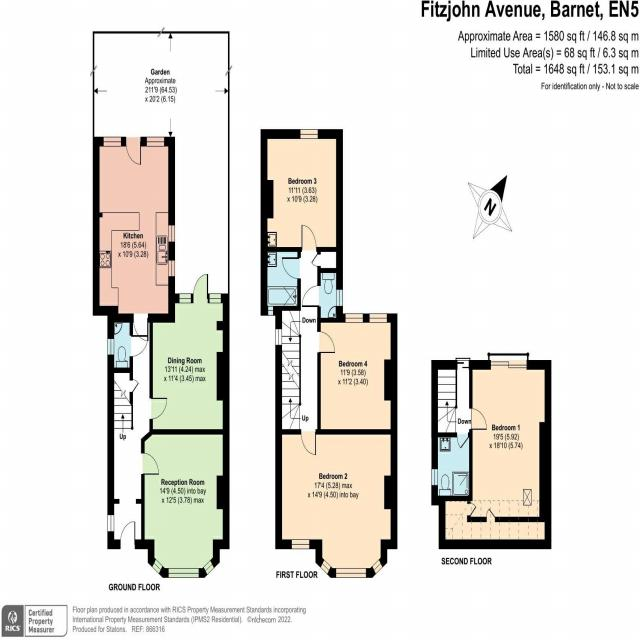DOOR: (193, 273, 209, 304), (281, 256, 301, 280), (133, 312, 149, 342), (125, 136, 141, 165), (316, 331, 336, 354), (469, 407, 488, 431), (300, 428, 316, 456), (301, 224, 317, 252), (120, 521, 136, 549), (302, 285, 321, 308), (149, 397, 168, 420), (141, 452, 159, 476), (456, 432, 469, 449), (467, 502, 477, 516)
ROOM: (275, 429, 398, 579), (92, 136, 175, 342), (467, 360, 552, 522), (141, 429, 230, 578), (149, 273, 230, 435), (260, 129, 343, 252), (317, 313, 398, 435)
WINDOW: (336, 568, 367, 578), (168, 568, 199, 578), (300, 128, 319, 140), (291, 539, 310, 550), (146, 136, 165, 147), (151, 558, 163, 575), (203, 559, 215, 576), (103, 136, 121, 147), (320, 559, 332, 575), (345, 313, 364, 323), (369, 313, 388, 323), (372, 558, 383, 575), (107, 514, 115, 533), (336, 289, 344, 307), (275, 328, 283, 346), (179, 293, 191, 304), (209, 293, 221, 304), (431, 468, 438, 486), (107, 338, 114, 356), (168, 225, 175, 242), (168, 260, 175, 277), (267, 305, 274, 316)
